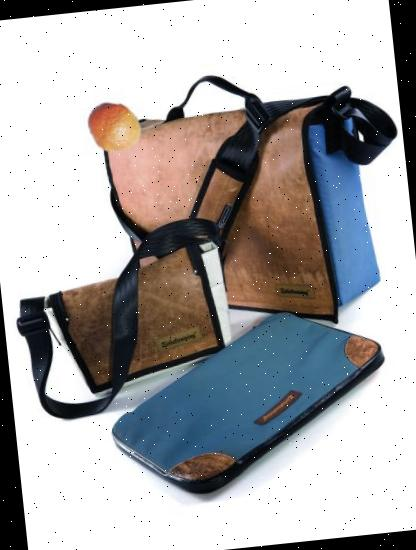Mandarine: (82, 96, 145, 159)
